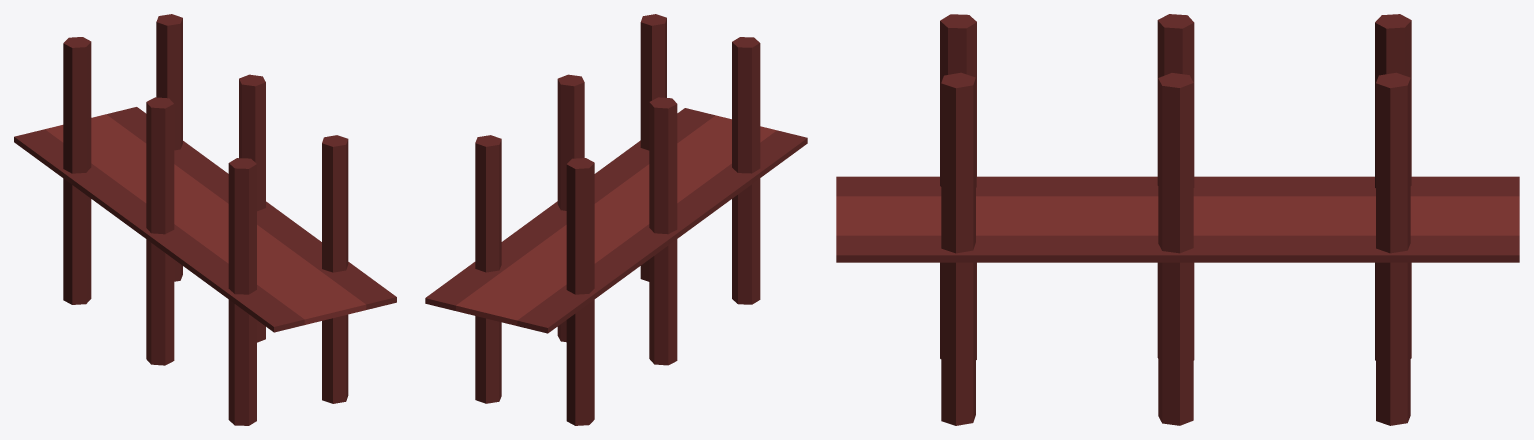
File: Bridge_6_Red.fbx
3 renders of one model, left to right at view 1: azimuth 30°, elevation 25°; view 2: azimuth 150°, elevation 25°; view 3: azimuth 270°, elevation 25°, orthographic. The views are drawn at different scales.
Visible parts, largest first — view 1: Bridge_6_Red_Part_1, Bridge_6_Red_Part_2, Bridge_6_Red_Part_6, Bridge_6_Red_Part_4, Bridge_6_Red_Part_3, Bridge_6_Red_Part_5, Bridge_6_Red_Part_7; view 2: Bridge_6_Red_Part_1, Bridge_6_Red_Part_2, Bridge_6_Red_Part_4, Bridge_6_Red_Part_6, Bridge_6_Red_Part_7, Bridge_6_Red_Part_5, Bridge_6_Red_Part_3; view 3: Bridge_6_Red_Part_1, Bridge_6_Red_Part_5, Bridge_6_Red_Part_3, Bridge_6_Red_Part_7, Bridge_6_Red_Part_4, Bridge_6_Red_Part_6, Bridge_6_Red_Part_2.
Boxes of the visible parts, box(x1,y1,x2,y2) form: Bridge_6_Red_Part_1: box(14, 107, 396, 332); Bridge_6_Red_Part_2: box(228, 158, 256, 425); Bridge_6_Red_Part_6: box(63, 37, 91, 304); Bridge_6_Red_Part_4: box(146, 97, 174, 365); Bridge_6_Red_Part_3: box(322, 135, 348, 403); Bridge_6_Red_Part_5: box(239, 74, 265, 342); Bridge_6_Red_Part_7: box(156, 14, 182, 281); Bridge_6_Red_Part_1: box(425, 108, 807, 333); Bridge_6_Red_Part_2: box(732, 37, 760, 304); Bridge_6_Red_Part_4: box(649, 97, 677, 365); Bridge_6_Red_Part_6: box(566, 158, 594, 425); Bridge_6_Red_Part_7: box(475, 135, 501, 403); Bridge_6_Red_Part_5: box(557, 74, 584, 342); Bridge_6_Red_Part_3: box(640, 14, 666, 281); Bridge_6_Red_Part_1: box(836, 176, 1519, 262); Bridge_6_Red_Part_5: box(1158, 73, 1193, 425); Bridge_6_Red_Part_3: box(941, 72, 975, 425); Bridge_6_Red_Part_7: box(1376, 72, 1410, 425); Bridge_6_Red_Part_4: box(1157, 14, 1194, 360); Bridge_6_Red_Part_6: box(1375, 14, 1411, 360); Bridge_6_Red_Part_2: box(940, 14, 976, 359).
Bounding box in the file's own units: 300 × 600 × 1100.
